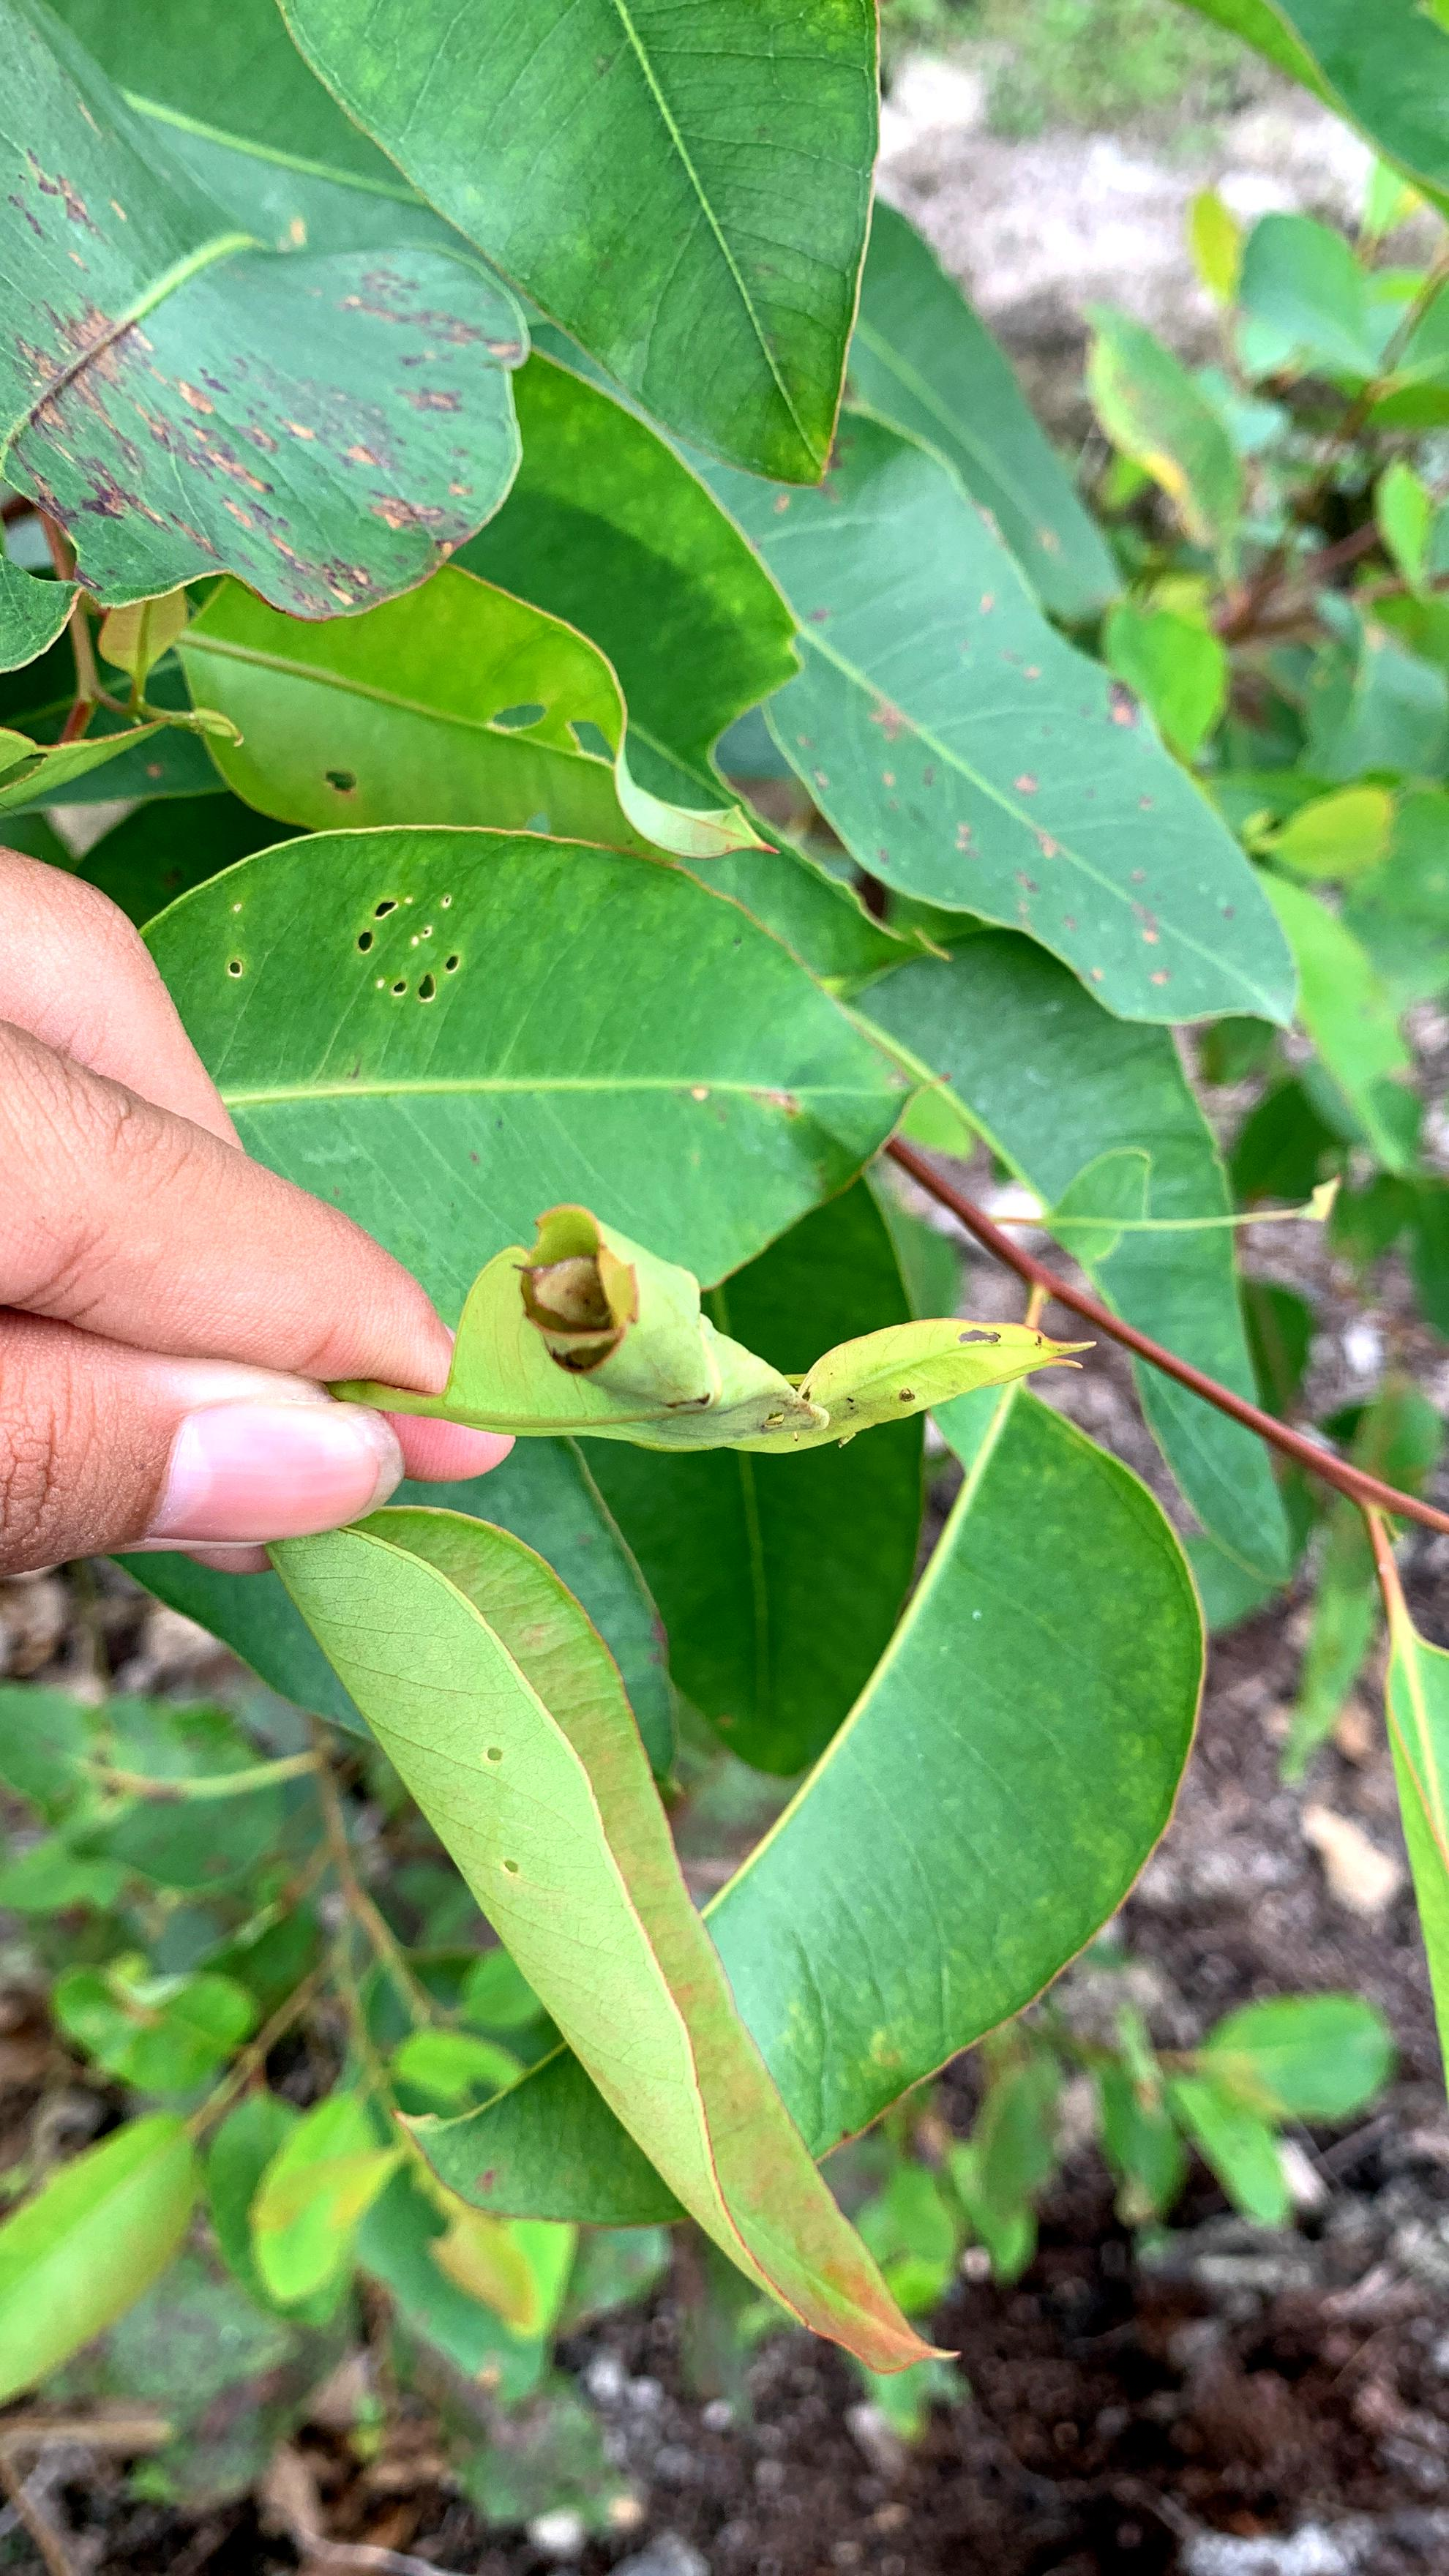Leaf Roller - Leaf: (389, 1128, 1109, 1535)
